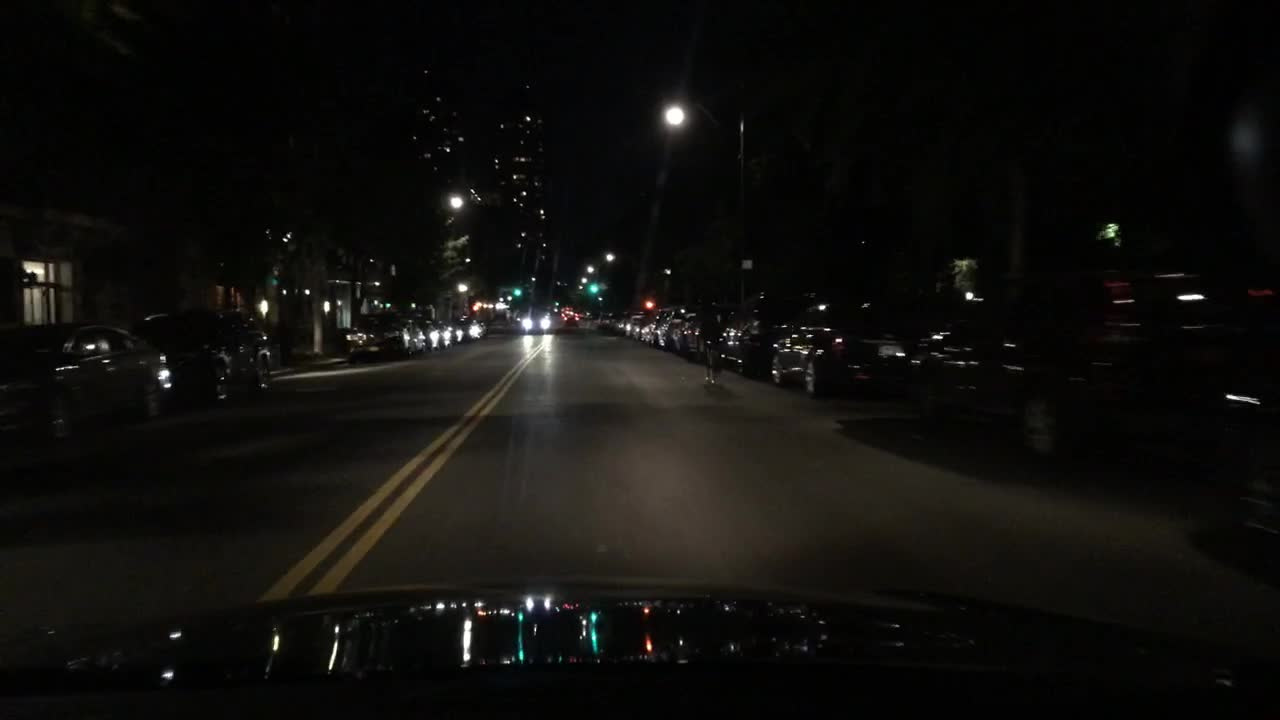car: (908, 251, 1279, 462), (0, 320, 172, 444), (768, 290, 921, 401), (136, 307, 270, 408), (1218, 381, 1279, 545), (715, 287, 815, 374), (346, 307, 427, 361), (671, 302, 732, 358), (654, 304, 687, 344), (417, 314, 442, 347), (518, 312, 552, 336), (638, 310, 661, 344), (435, 320, 455, 347), (462, 315, 484, 339), (595, 309, 616, 332), (633, 314, 649, 339), (562, 310, 582, 329), (449, 324, 469, 341), (622, 314, 638, 334), (614, 314, 627, 326)
traffic light: (509, 280, 523, 297), (639, 295, 654, 310), (587, 277, 599, 295)
